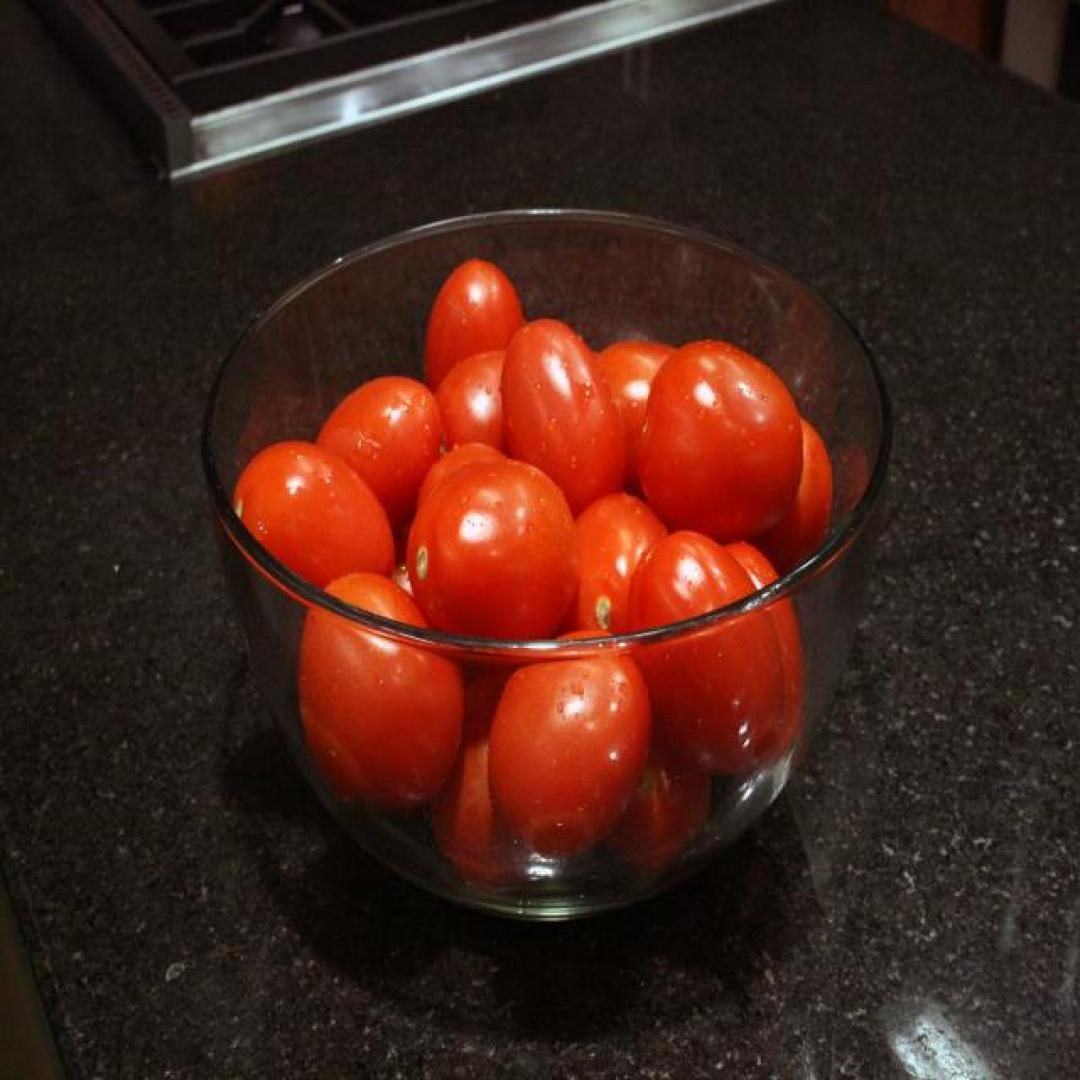matang: (297, 573, 464, 816), (624, 532, 785, 778), (486, 629, 653, 859), (407, 459, 582, 660), (638, 339, 805, 545), (234, 442, 396, 626), (500, 317, 626, 528)
